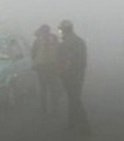person: (55, 18, 88, 123), (30, 23, 64, 120)
